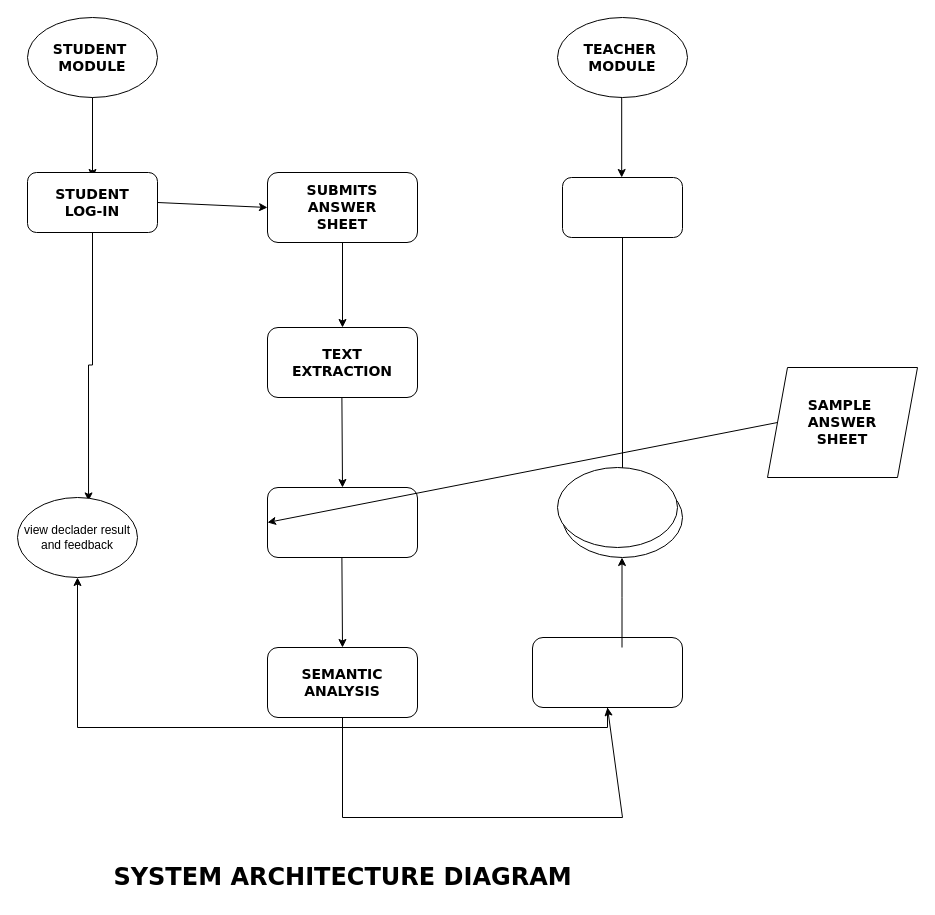
Some shapes in this 935 by 915 pixel diagram are drawn without their labels. The centre of each missing label's shape, as x and y in pixels:
"KEYWORD SIMILARITY" belongs at point (342, 522).
"RESULT GENERATION" belongs at point (607, 672).
"TEACHER LOG-IN" belongs at point (622, 207).
"view and declare result" belongs at point (617, 507).
